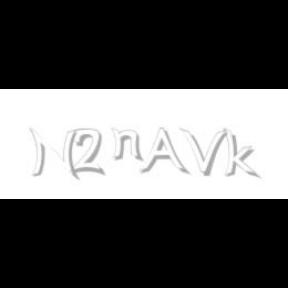2: (69, 128, 103, 176)
A: (139, 128, 187, 176)
N: (29, 128, 78, 180)
V: (180, 128, 228, 176)
k: (222, 128, 260, 180)
n: (110, 128, 144, 162)
